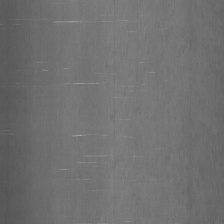waist_folding: (39, 17, 168, 190)
